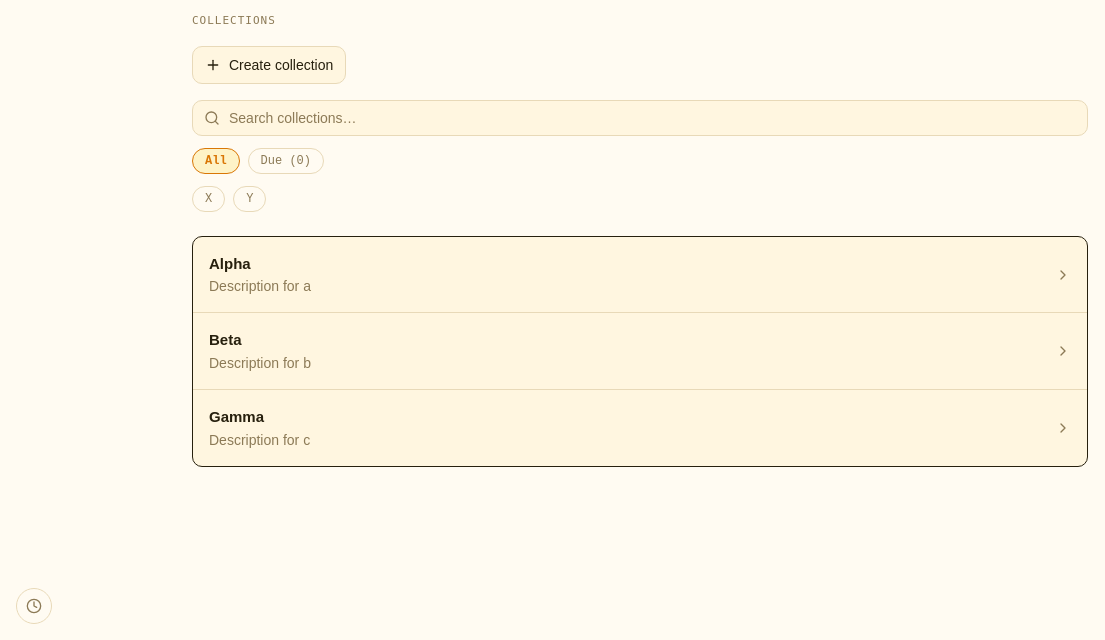
Test: Home — tag filtering › shows all collections after clicking the active tag again
Step 1. Click the button "X" → click(209, 199), box [192,186,225,212]
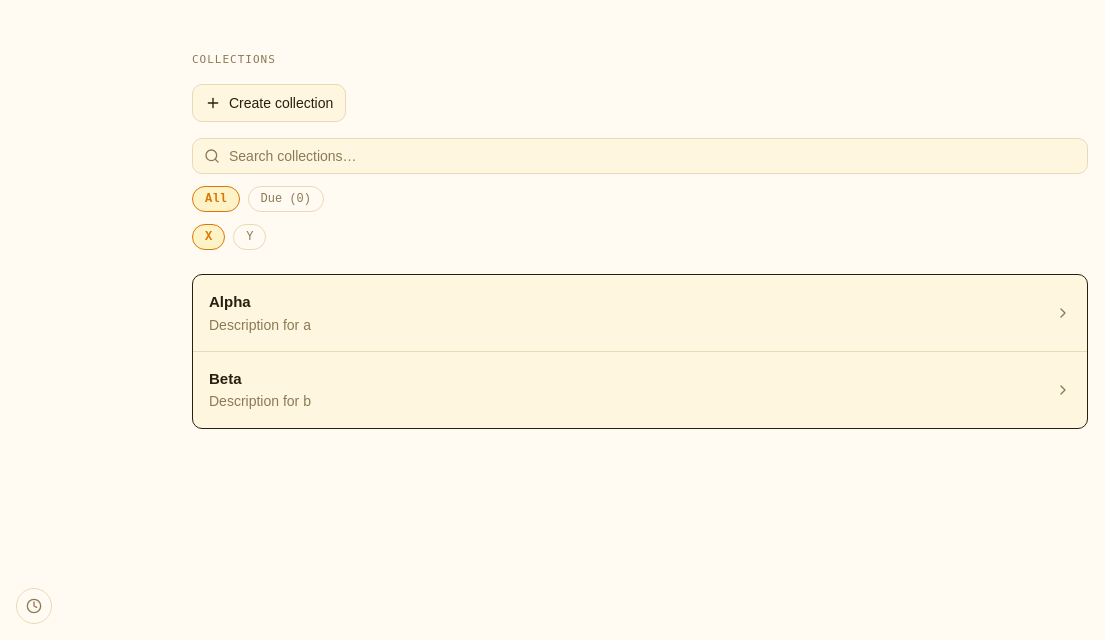
Step 2. Click the button "X" → click(209, 237), box [192,224,225,250]
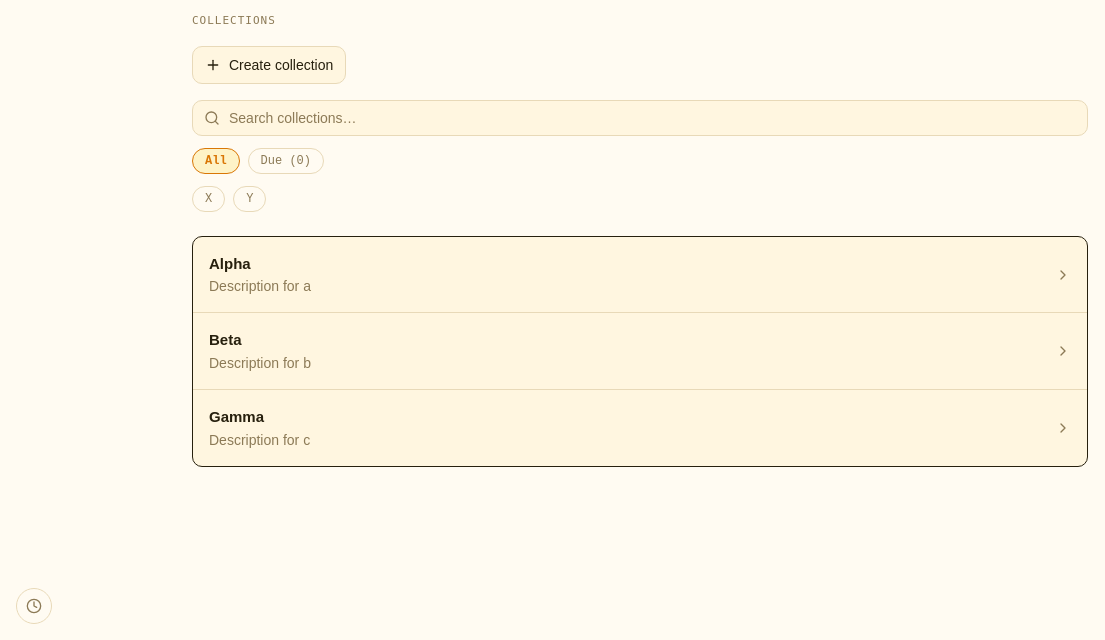
Expected: the heading "Alpha" is shown, [209,253,251,275]
Now the heading "Gamma" is shown, box [209,406,264,429]
